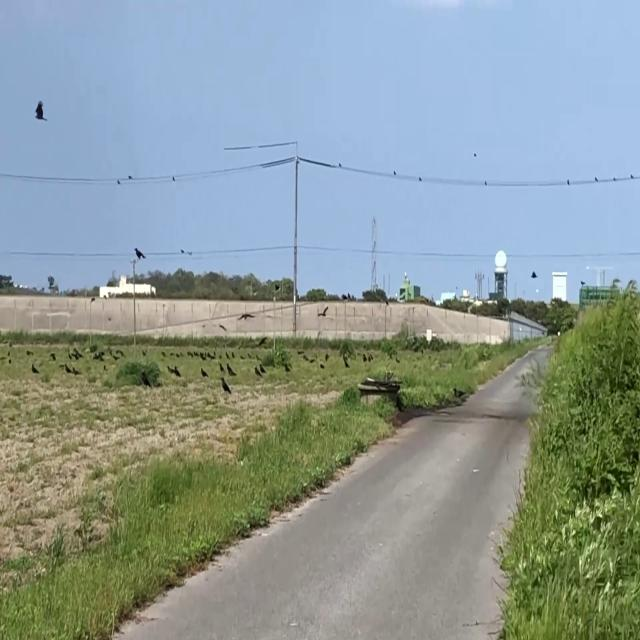bird: (35, 92, 46, 129), (134, 242, 144, 266), (222, 372, 229, 398), (243, 310, 252, 325), (227, 359, 232, 380), (254, 364, 260, 381), (174, 361, 179, 379), (201, 364, 206, 380), (363, 351, 368, 365), (367, 352, 371, 364)
